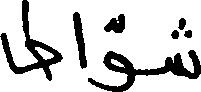X: (0, 0, 60, 85), (104, 9, 134, 91), (166, 13, 200, 83), (72, 7, 86, 73)
